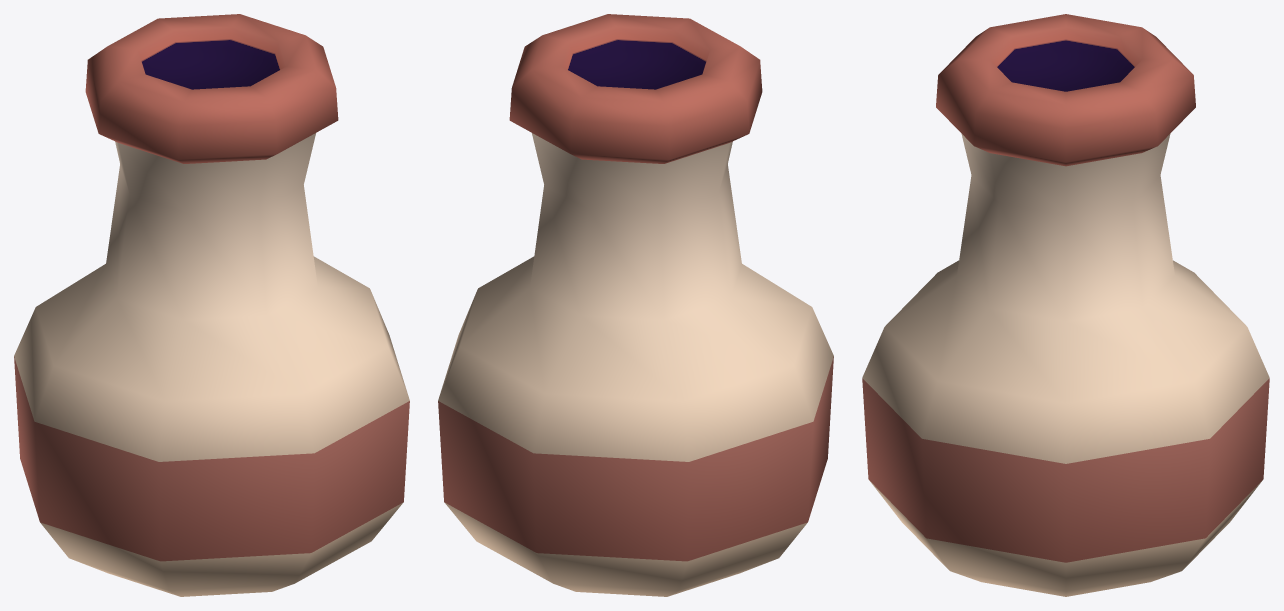
Rendered from Vase10.fbx.
3 renders of one model, left to right at view 1: azimuth 30°, elevation 25°; view 2: azimuth 150°, elevation 25°; view 3: azimuth 270°, elevation 25°, orthographic.
Visible parts, largest first — view 1: Vase10; view 2: Vase10; view 3: Vase10.
Boxes of the visible parts, <box> form: Vase10: <box>14,14,409,596</box>; Vase10: <box>438,14,833,596</box>; Vase10: <box>862,14,1269,596</box>.
Size of the model in its own units: 68.22 by 89.95 by 68.22.
